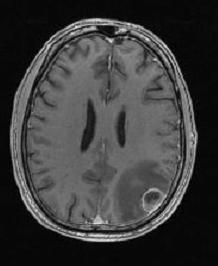Normal_Brain: (1, 1, 218, 266)
